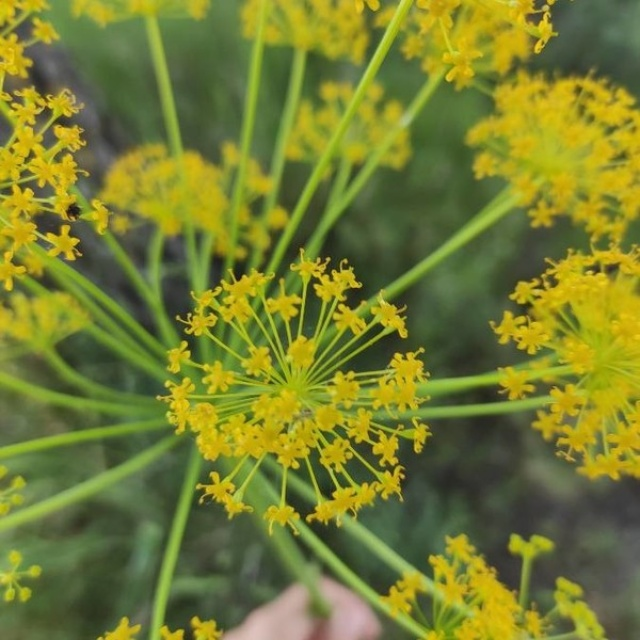obstacle: (34, 32, 583, 639)
